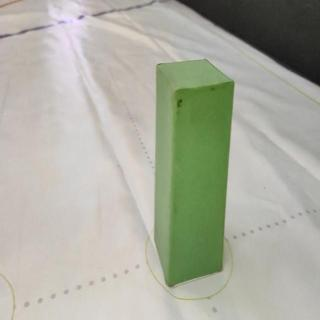greenbox: (153, 57, 234, 288)
